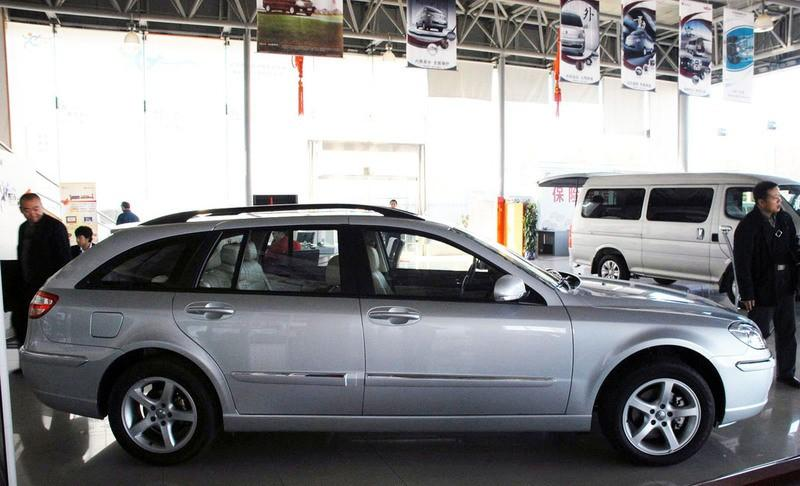Wagon: (18, 201, 777, 468)
